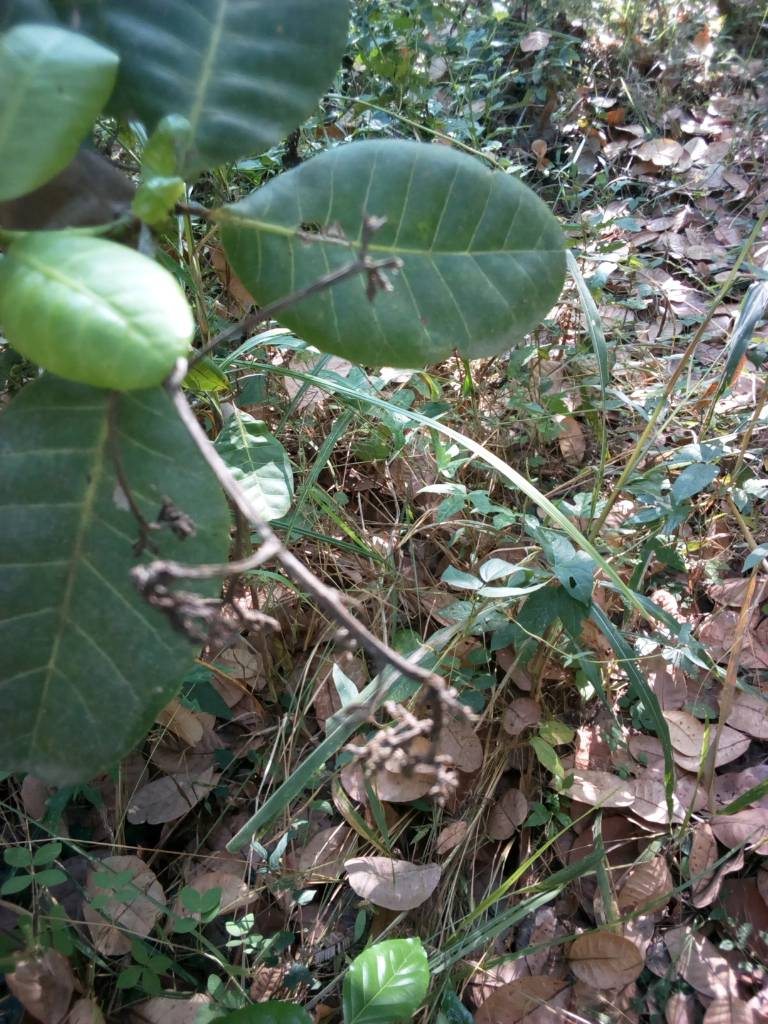Dessèchement des bourgeons: (125, 482, 275, 641), (369, 671, 469, 807), (357, 219, 404, 303)
